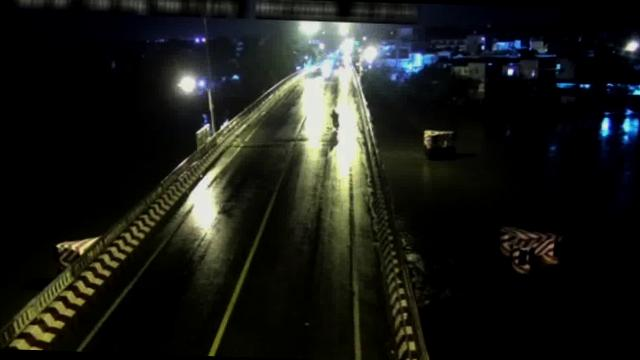Bike: (326, 108, 342, 131)
